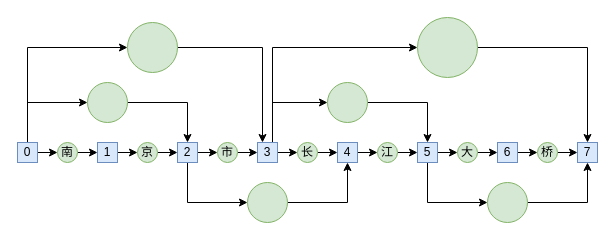
Image size: 615x240. Some labels were removed from this diagram. The shapes that lost their labels are listed below. From the top down, each one's centre as x and y in pixels, then its label:
At (152,47): "南京市".
At (447,47): "长江大桥".
At (107,102): "南京".
At (347,102): "长江".
At (267,202): "市长".
At (507,202): "大桥".
